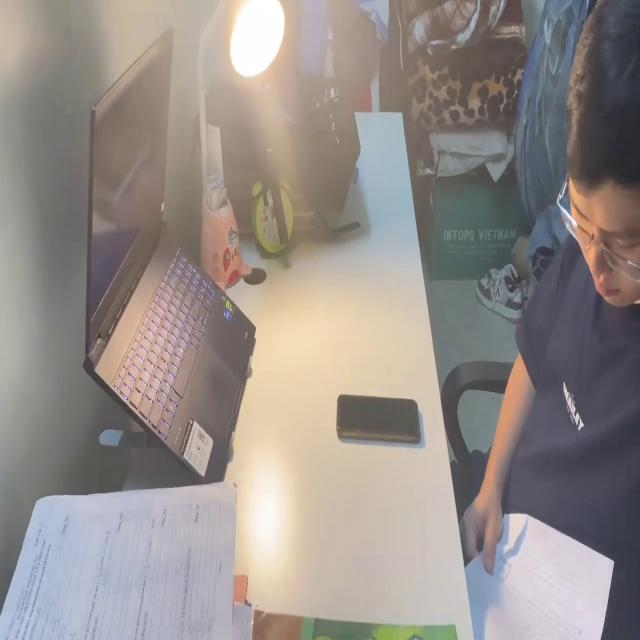book: (0, 473, 255, 640), (464, 508, 614, 640)
laptop: (84, 22, 256, 492)
phone: (336, 389, 422, 448)
student: (451, 8, 640, 640)
